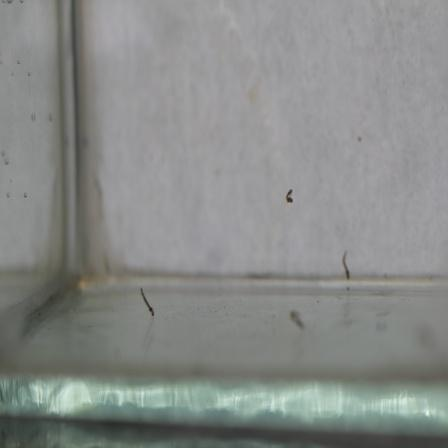Jentik-Nyamuk: (136, 284, 159, 321)
